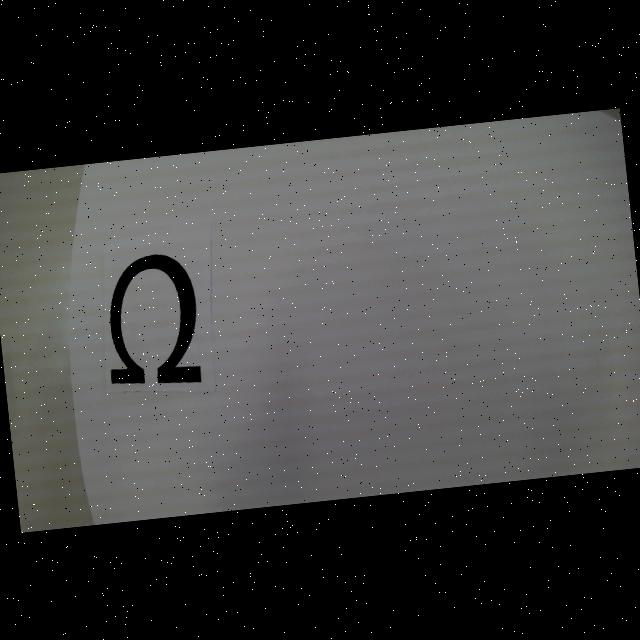OMEGA: (98, 250, 204, 390)
